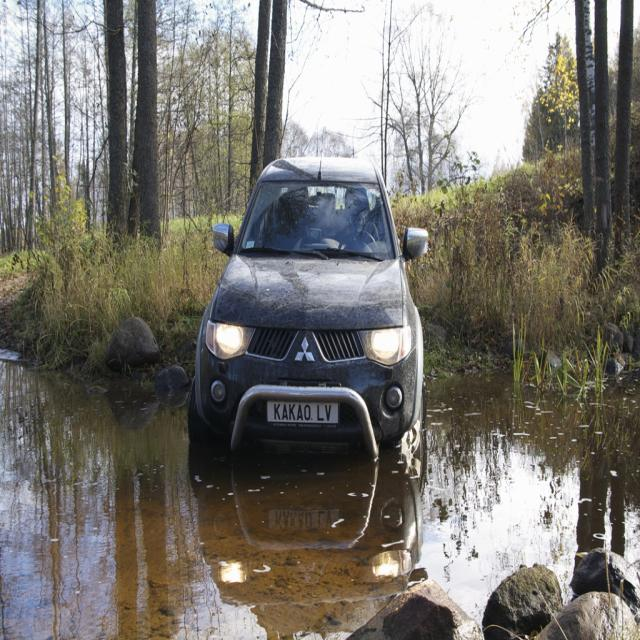car: (186, 149, 426, 534)
